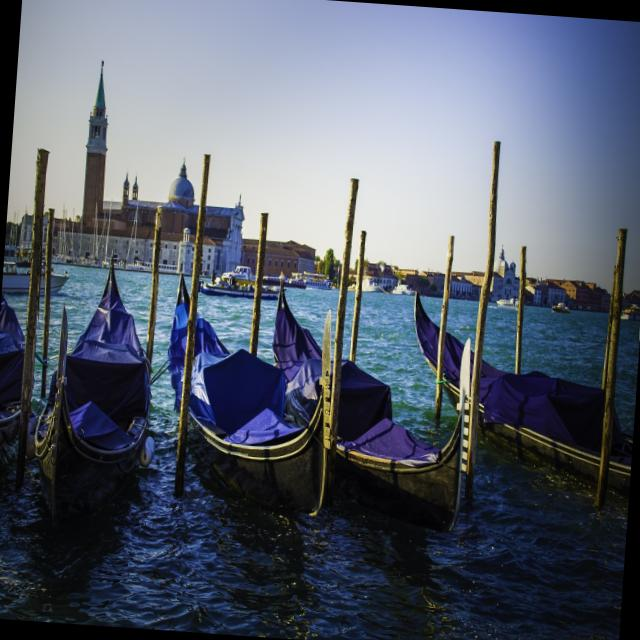boat: (397, 248, 640, 508), (254, 264, 489, 532), (148, 250, 350, 528), (19, 228, 171, 542)
